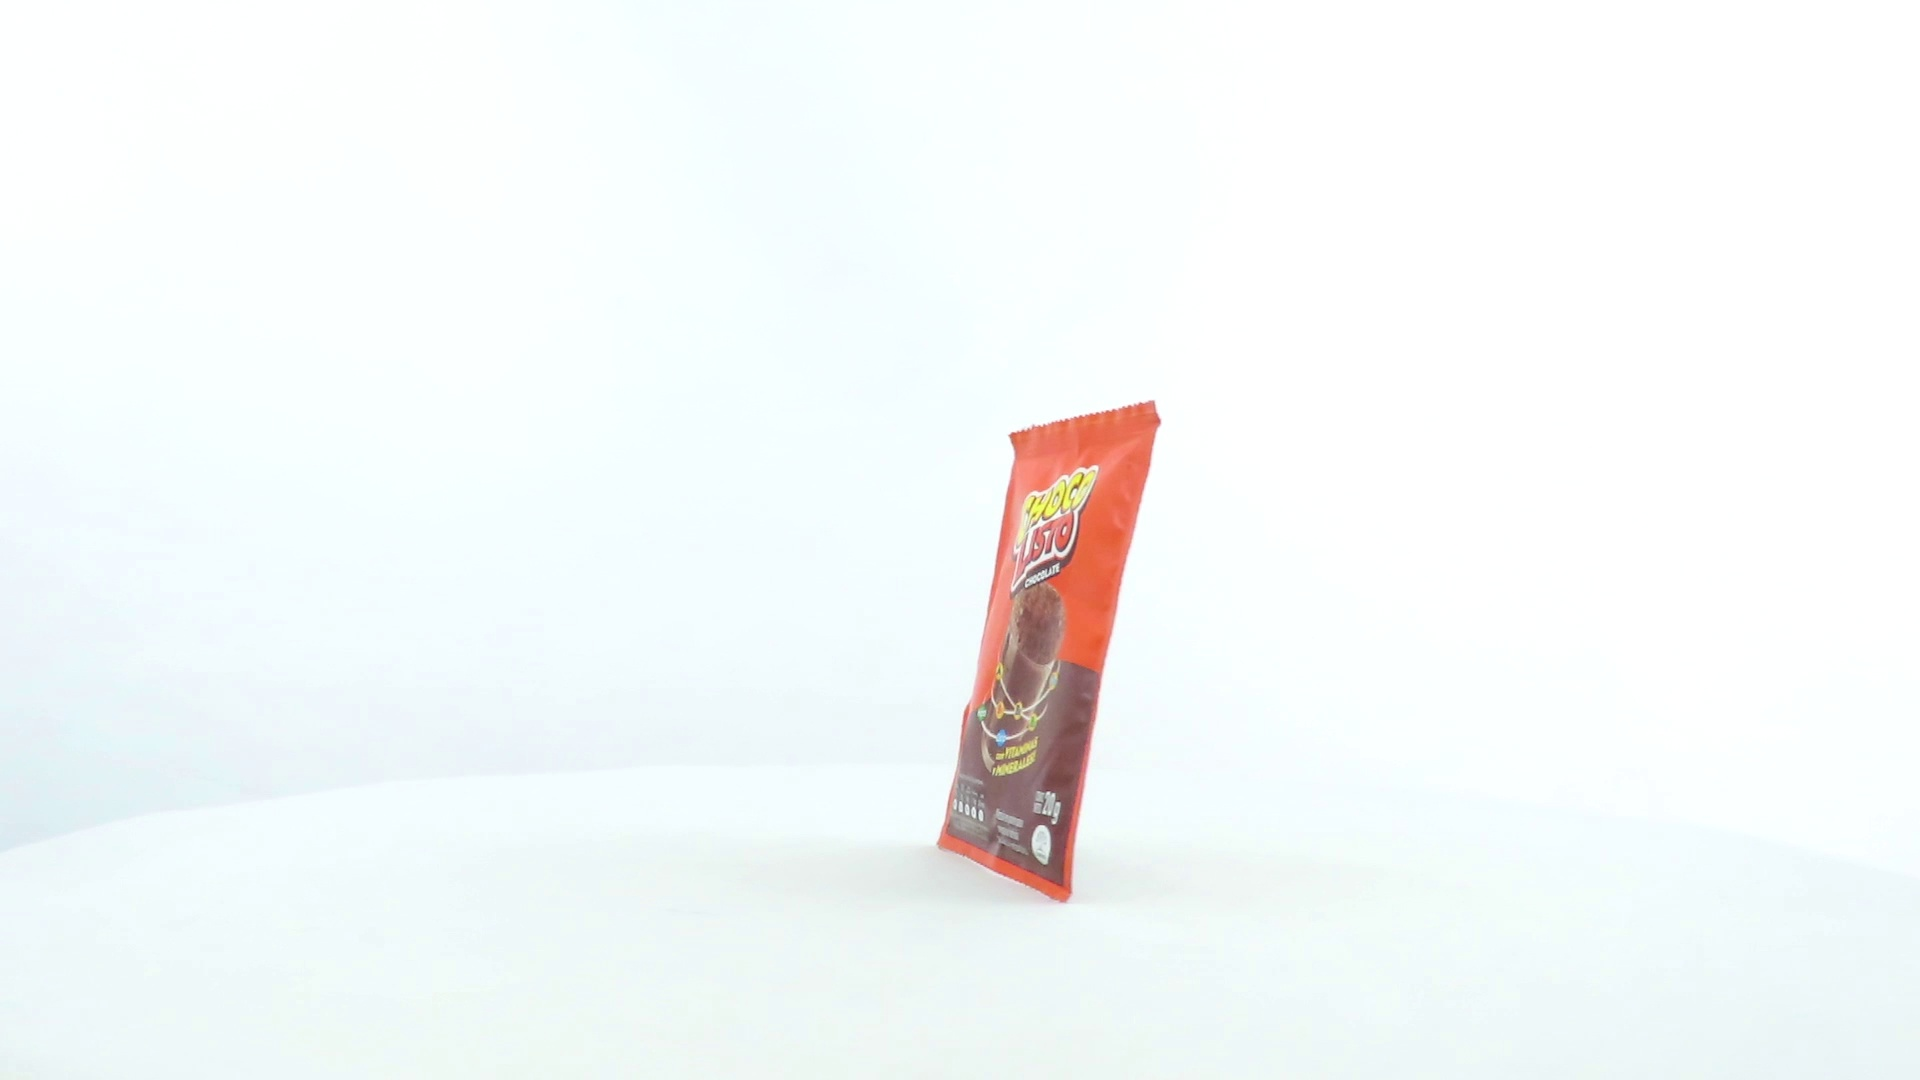COL0170103SOB02000: (931, 396, 1167, 911)
